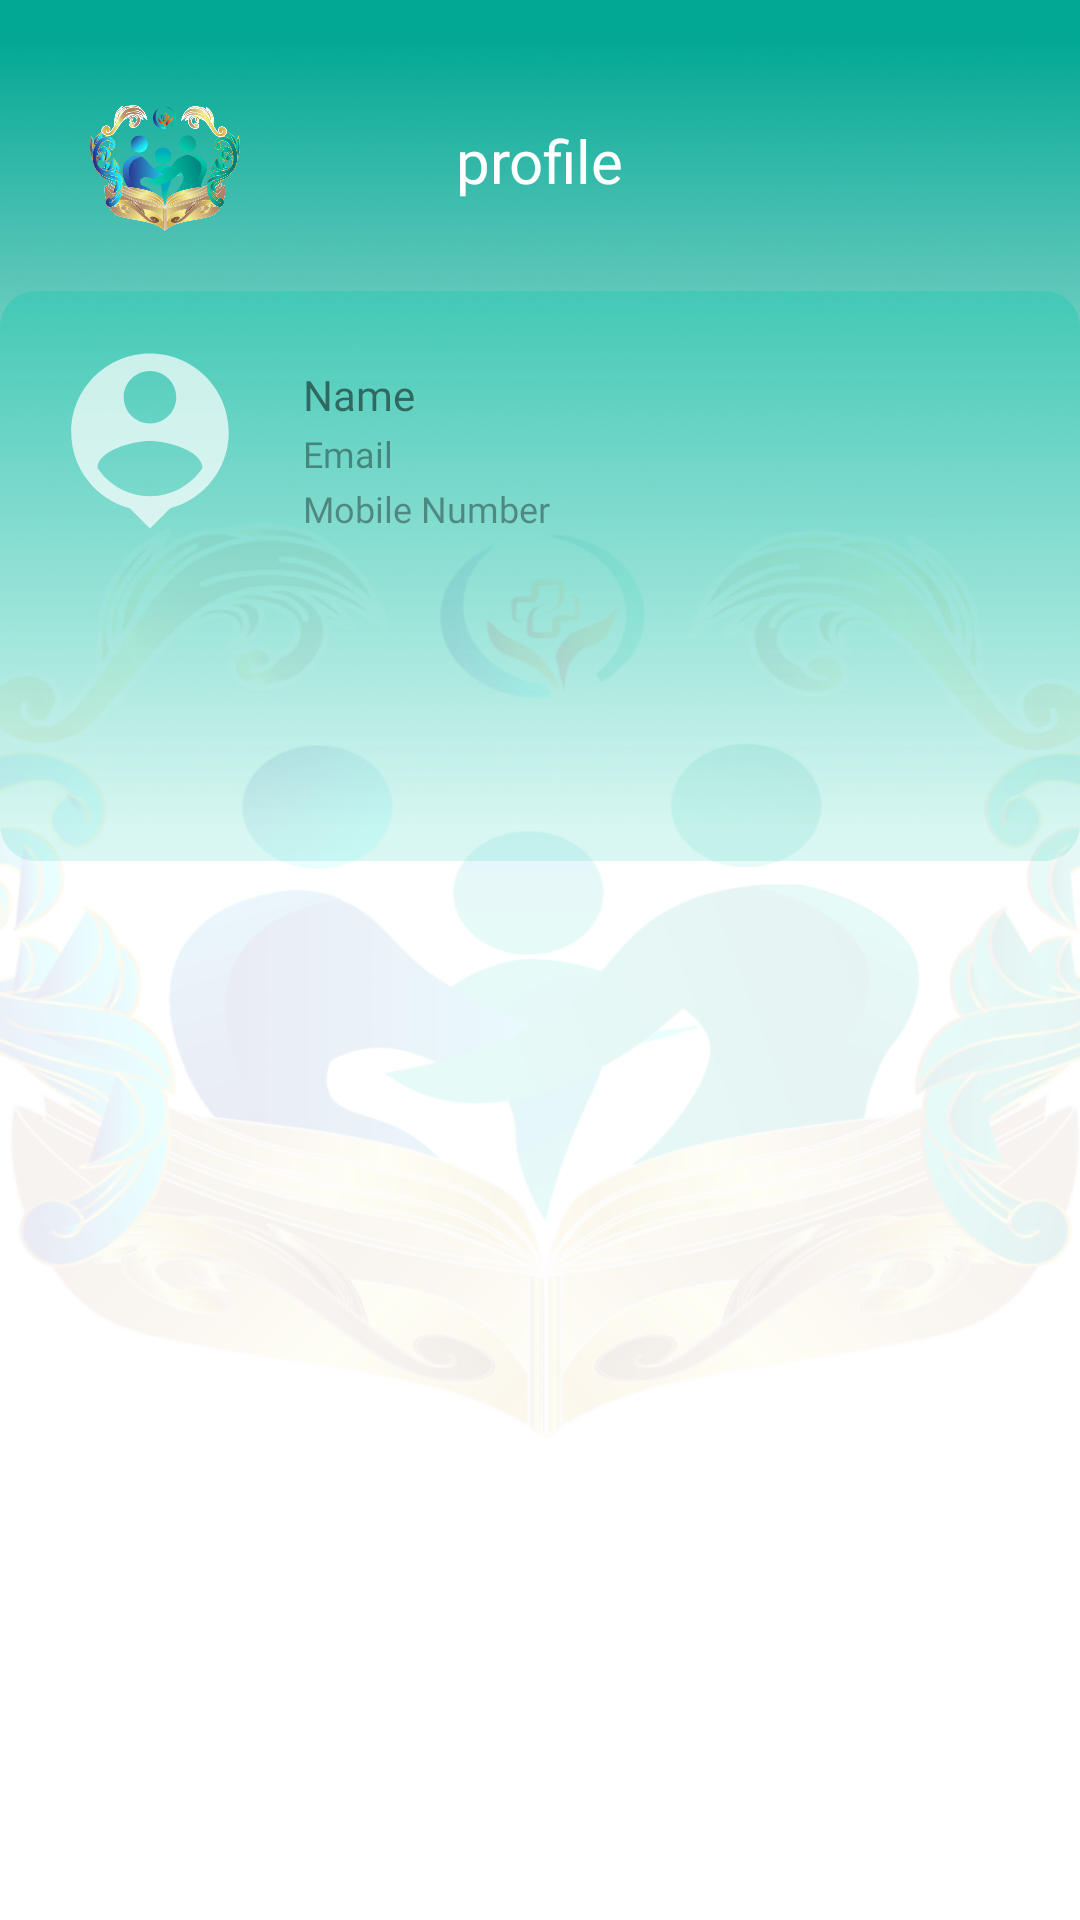

Where to tap for icons on this 1080×1920 app screen, as [x,y]:
person pin: [150,441]
